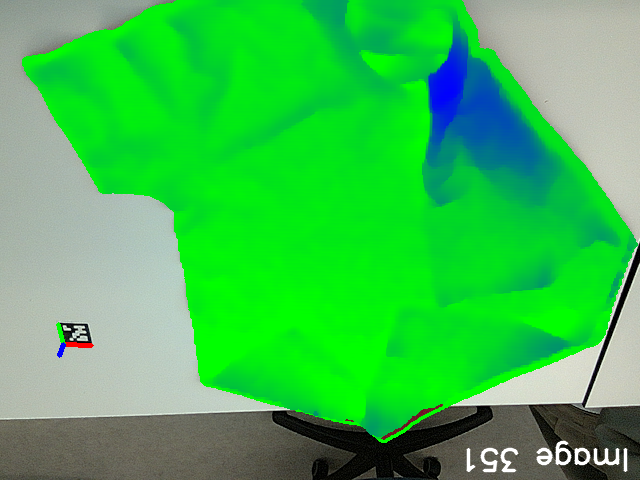V: (426, 271, 478, 315), (271, 314, 312, 351), (386, 293, 421, 331)
